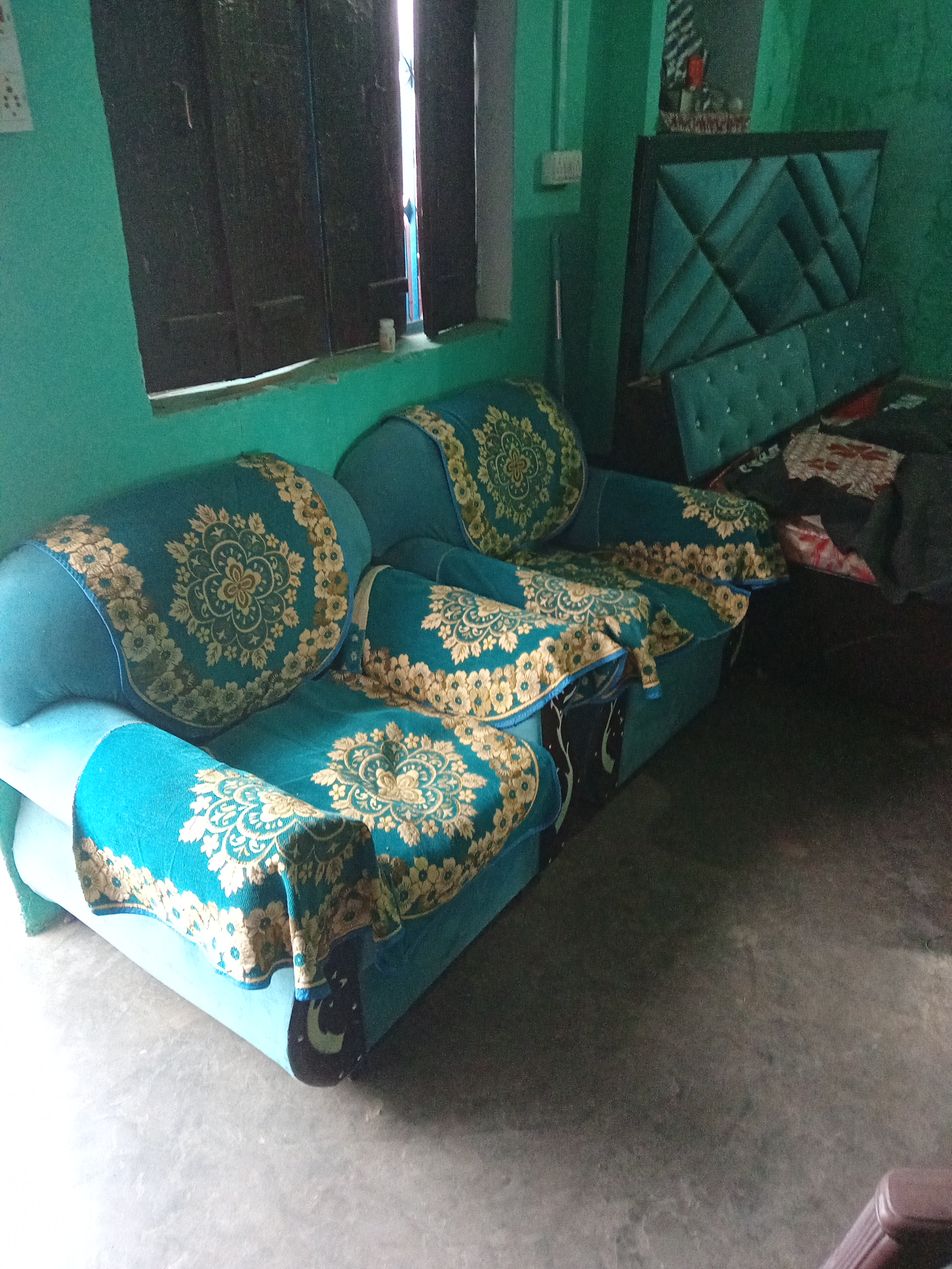sofa: (0, 452, 628, 1083), (339, 375, 789, 834)
